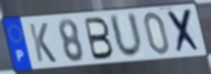0: (142, 10, 171, 56)
8: (58, 18, 86, 64)
B: (82, 16, 115, 62)
K: (27, 22, 58, 64)
U: (107, 11, 145, 60)
X: (165, 8, 203, 56)
